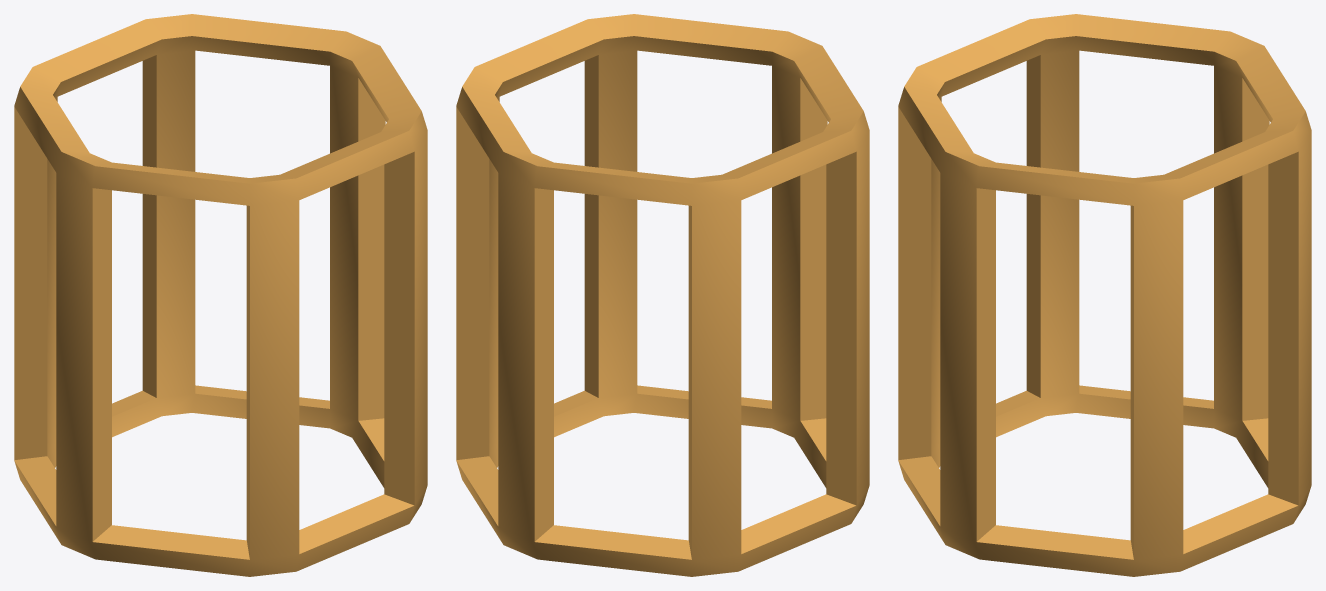
The model's file is CylinderMesh_02.fbx.
3 renders of one model, left to right at view 1: azimuth 30°, elevation 25°; view 2: azimuth 150°, elevation 25°; view 3: azimuth 270°, elevation 25°, orthographic.
Parts seen in each view (by area): view 1: CylinderMesh_02; view 2: CylinderMesh_02; view 3: CylinderMesh_02.
Boxes of the visible parts, x1,y1,x2,y2 form: CylinderMesh_02: (14,14,427,576); CylinderMesh_02: (456,14,869,576); CylinderMesh_02: (898,14,1311,576).
Size of the model in its own units: 305 by 320 by 305.
